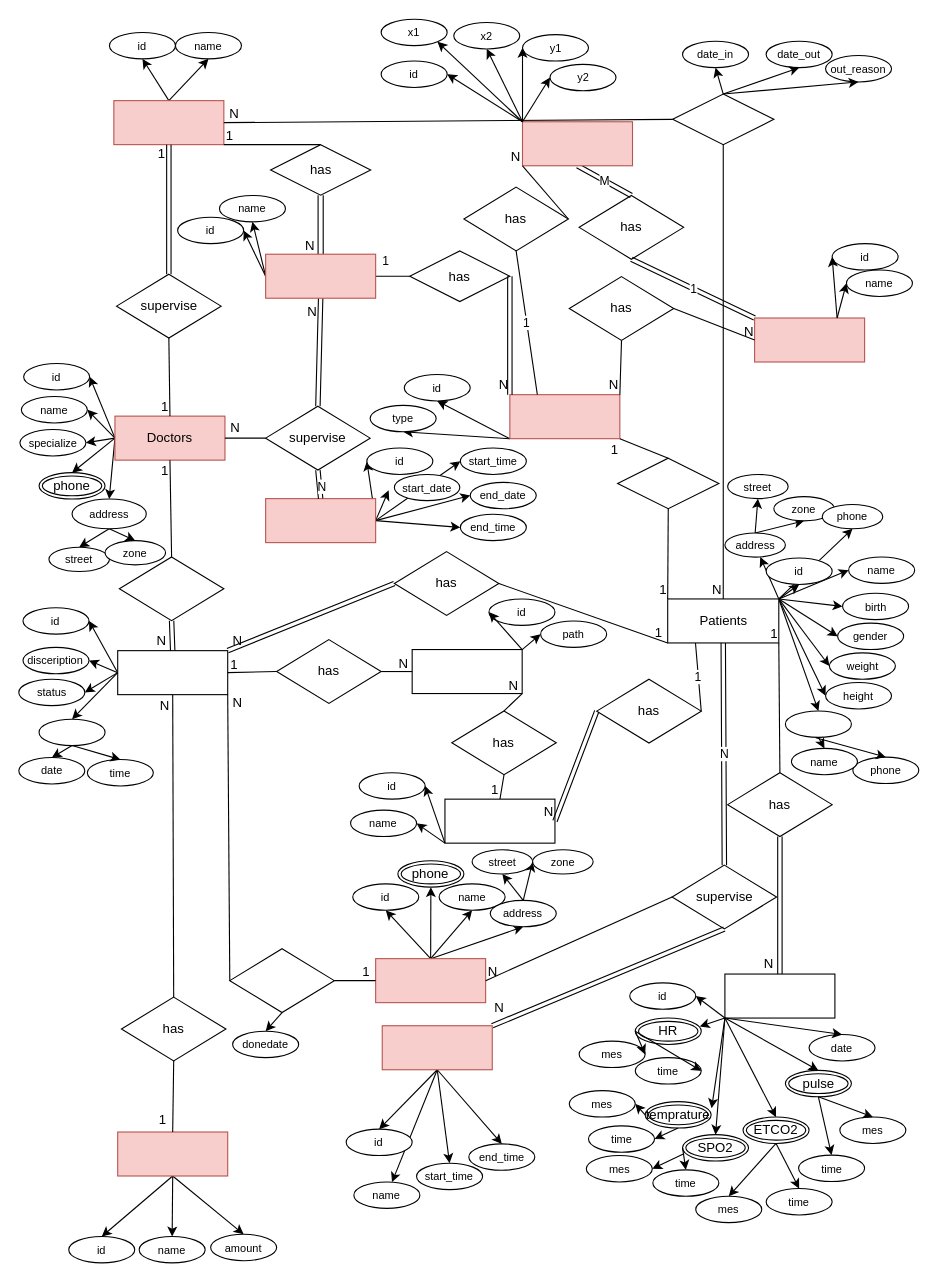
Image size: 939x1283. Some labels were removed from this diagram. The centre of each missing label's shape, as x and y in pixels:
"companion" belongs at [817,723].
"Coordinates" belongs at [576,143].
"Devices" belongs at [564,416].
"do" belongs at [281,980].
"duedate" belongs at [71,732].
"ICUs" belongs at [168,122].
"Image" belongs at [466,671].
"in" belongs at [723,119].
"medicine" belongs at [172,1153].
"Nurse" belongs at [430,980].
"on" belongs at [668,483].
"Report" belongs at [499,820].
"set" belongs at [171,588].
"shift_doctor" belongs at [320,520].
"shift_nurse" belongs at [436,1047].
"Signs" belongs at [809,339].
"task" belongs at [172,672].
"Unit" belongs at [320,275].
"Vital signs" belongs at [779,995].
